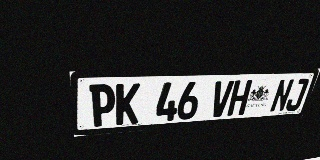4: (155, 82, 181, 122)
6: (176, 81, 202, 120)
H: (227, 80, 253, 116)
J: (284, 78, 310, 111)
K: (116, 83, 140, 125)
N: (269, 79, 295, 113)
P: (89, 84, 115, 127)
V: (209, 80, 234, 117)
